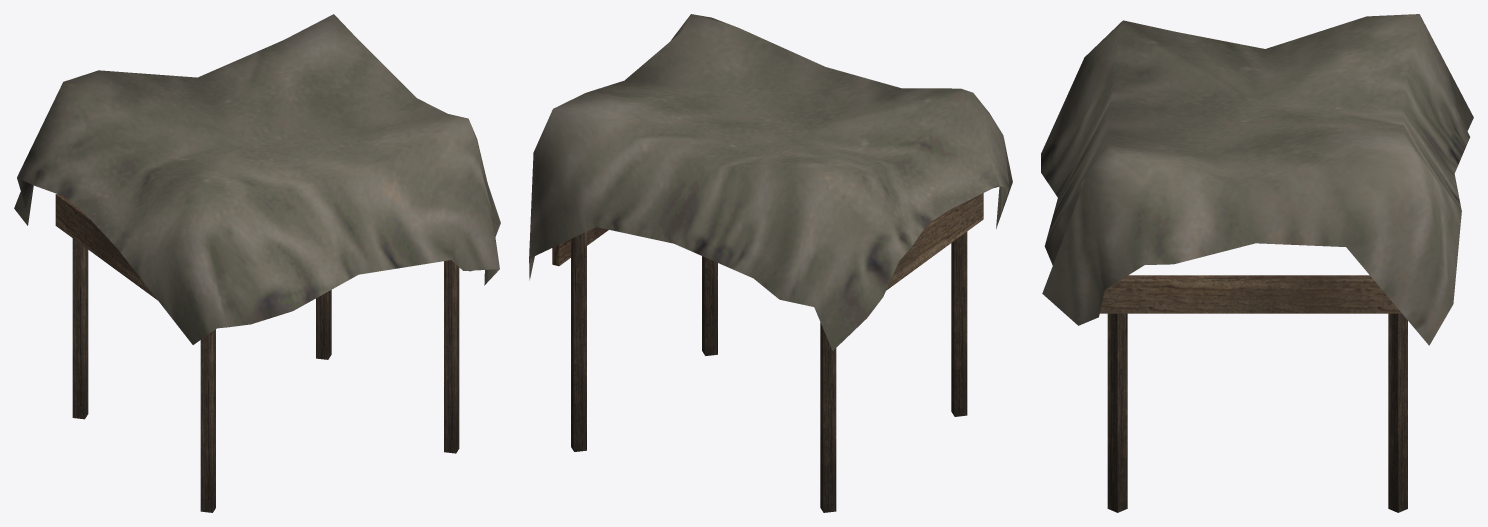
File: SC_yonghengsenlin_36.FBX
The picture shows the model from 3 angles, left to right: view 1: azimuth 30°, elevation 25°; view 2: azimuth 150°, elevation 25°; view 3: azimuth 270°, elevation 25°; orthographic projection. The views are drawn at different scales.
Visible parts, largest first — view 1: SC_yonghengsenlin_36; view 2: SC_yonghengsenlin_36; view 3: SC_yonghengsenlin_36.
Boxes of the visible parts, x1,y1,x2,y2 form: SC_yonghengsenlin_36: (14,14,500,512); SC_yonghengsenlin_36: (529,14,1012,512); SC_yonghengsenlin_36: (1041,14,1473,512).
Size of the model in its own units: 405 by 362 by 389.
